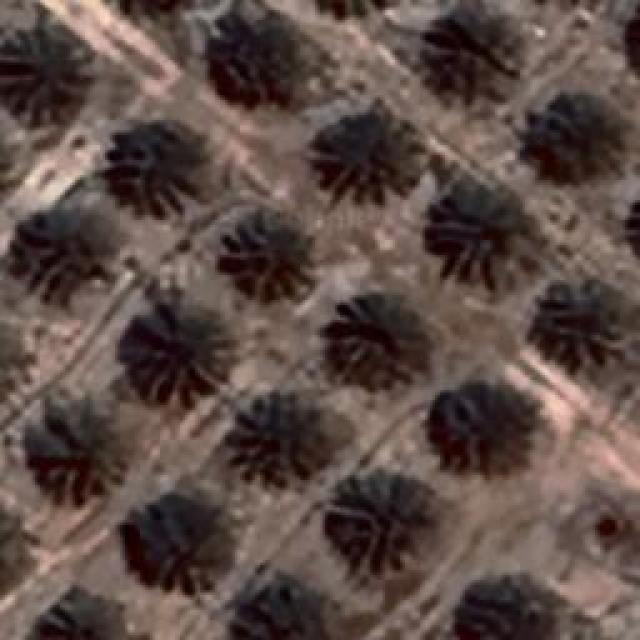PalmTree: (55, 64, 110, 608), (15, 101, 55, 548), (115, 298, 235, 402), (428, 185, 540, 293), (322, 472, 420, 572), (432, 374, 526, 478), (225, 388, 325, 482), (212, 12, 310, 107), (312, 108, 410, 202), (28, 410, 130, 500), (1, 15, 91, 113), (328, 290, 422, 380), (16, 212, 106, 306), (546, 282, 634, 376), (136, 494, 222, 582), (452, 575, 564, 640), (226, 575, 337, 640), (114, 114, 192, 204), (228, 229, 310, 309), (432, 13, 510, 96), (544, 99, 622, 179), (104, 0, 205, 22), (0, 315, 22, 411), (0, 494, 18, 597), (102, 0, 205, 16), (302, 0, 401, 16), (0, 313, 16, 412), (624, 180, 640, 267), (624, 0, 640, 84), (301, 0, 404, 12), (0, 314, 12, 412), (629, 180, 640, 268), (629, 0, 640, 84)
